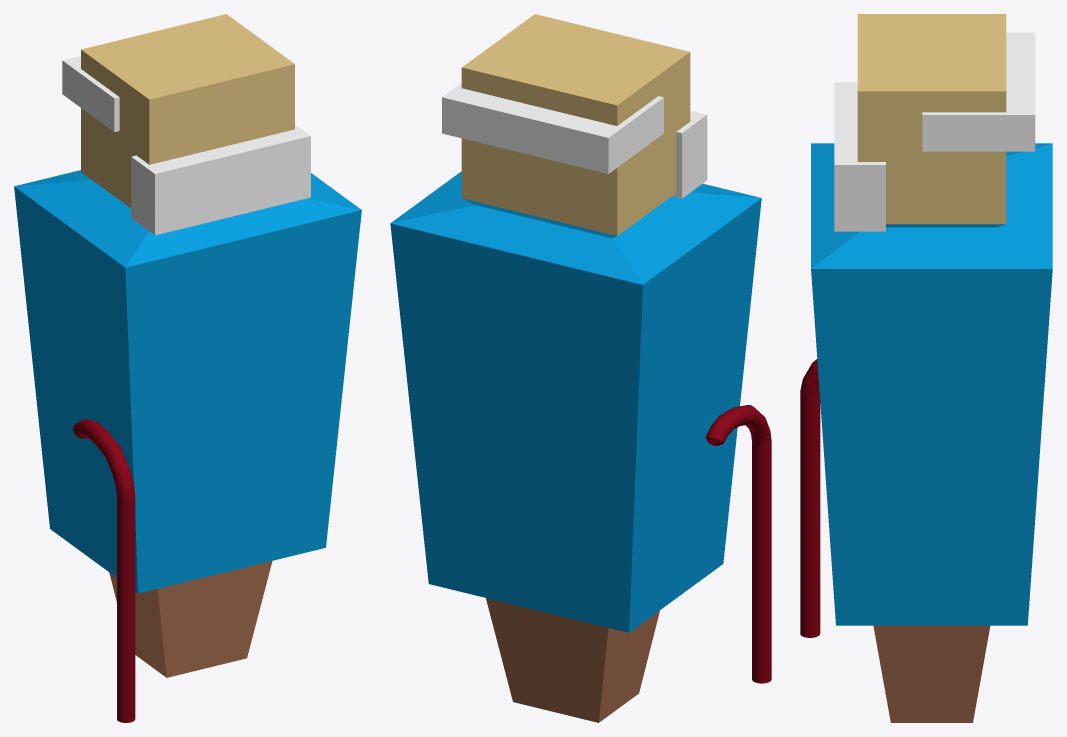
The model's file is Человек №2.fbx.
3 views of the same model, side by side, from view 1: azimuth 30°, elevation 25°; view 2: azimuth 150°, elevation 25°; view 3: azimuth 270°, elevation 25° (orthographic). The views are drawn at different scales.
Visible parts, largest first — view 1: Cube; view 2: Cube; view 3: Cube.
Part boxes in pixels (left/top/right/bottom): Cube: left=14, top=14, right=361, bottom=722; Cube: left=390, top=14, right=771, bottom=722; Cube: left=800, top=14, right=1052, bottom=722.
Size of the model in its own units: 206 by 483 by 170.
